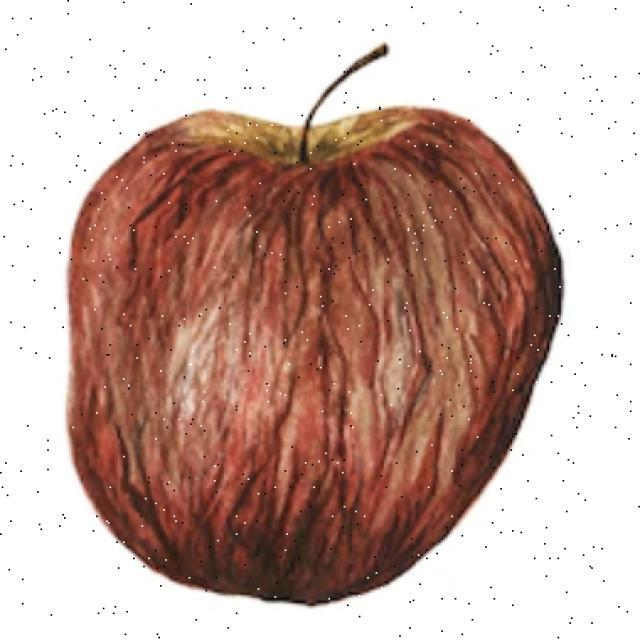Rotten: (75, 99, 538, 618)
